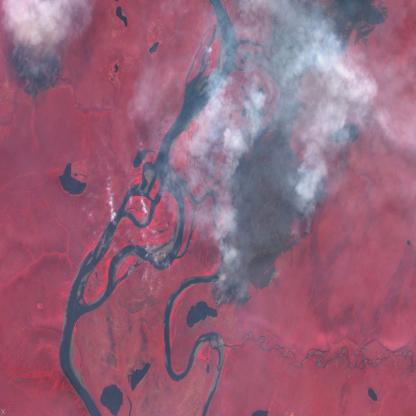fire: (207, 114, 320, 314), (6, 32, 68, 106)
